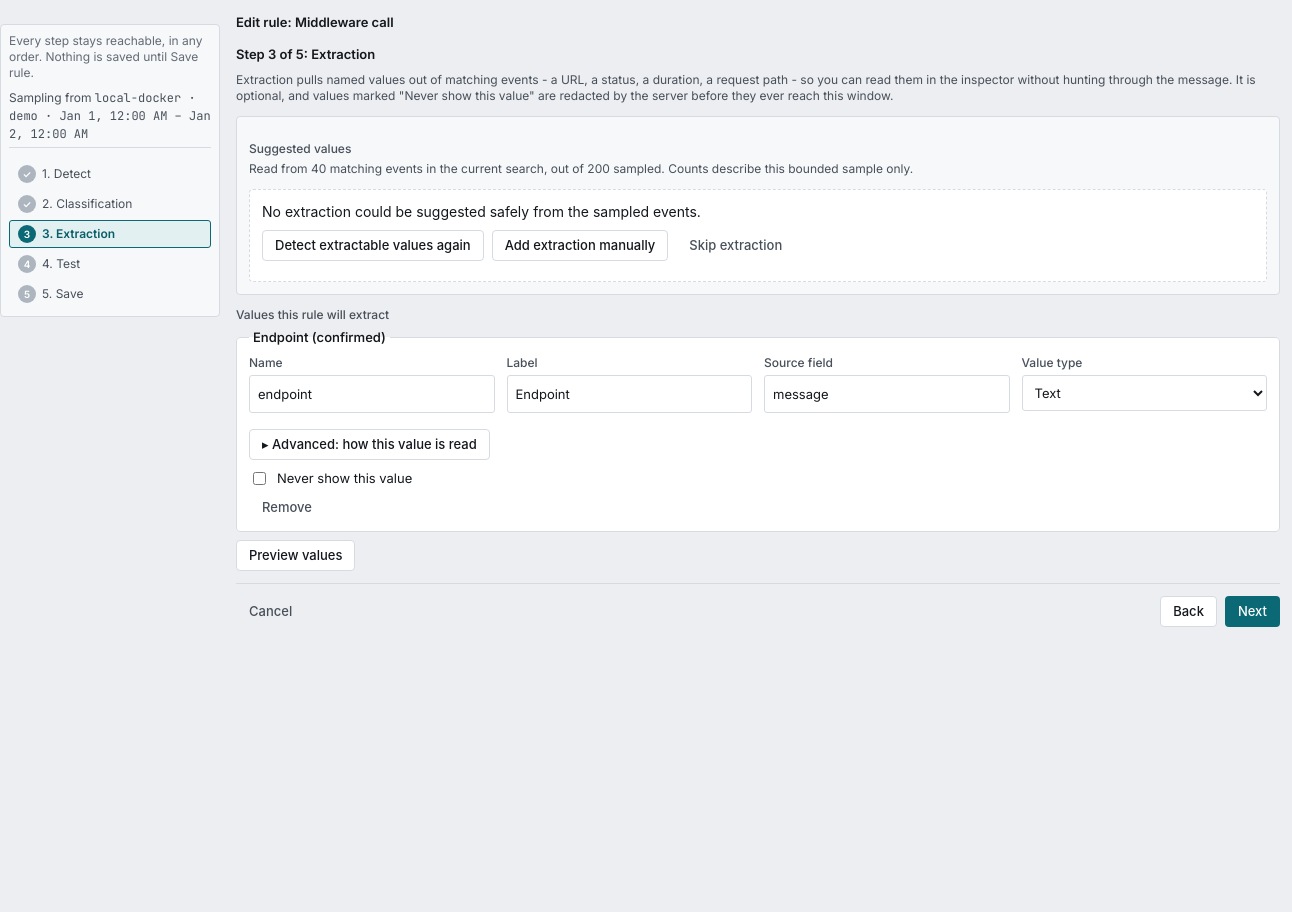
Test: RuleEditor - assisted extraction: regex stays behind the disclosure › a confirmed value shows no method, group or expression until "Advanced: how this value is read" is opened
Check: the field labelled "Expression" is not shown
Check: the field labelled "Method" is not shown
Click the button "▸ Advanced: how this value is read".
click(369, 445)  # box left=249, top=429, right=490, bottom=460
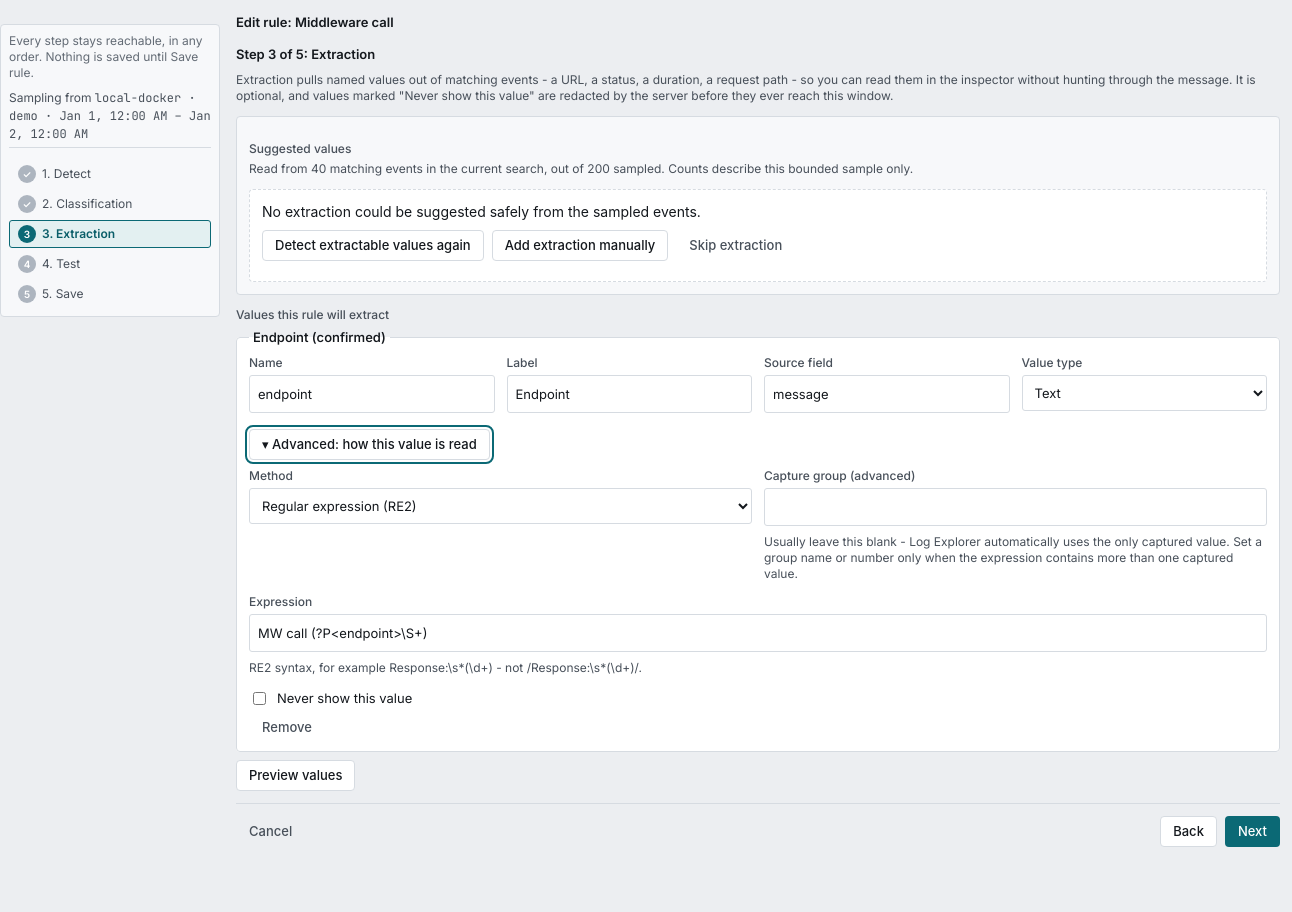
Check: the button "▾ Advanced: how this value is read" is expanded, box left=249, top=429, right=490, bottom=460
Check: the field labelled "Expression" holds "MW call (?P<endpoint>\\S+)", box left=249, top=614, right=1267, bottom=652
Check: the dropdown labelled "Method" shows "Regular expression (RE2)", box left=249, top=488, right=752, bottom=524
